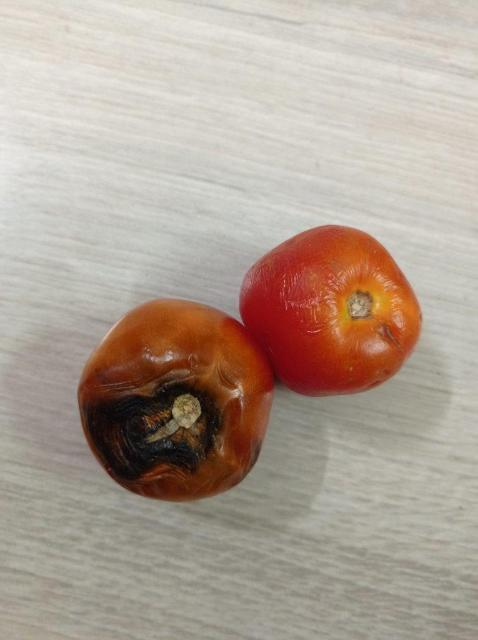defect: (75, 294, 277, 506)
